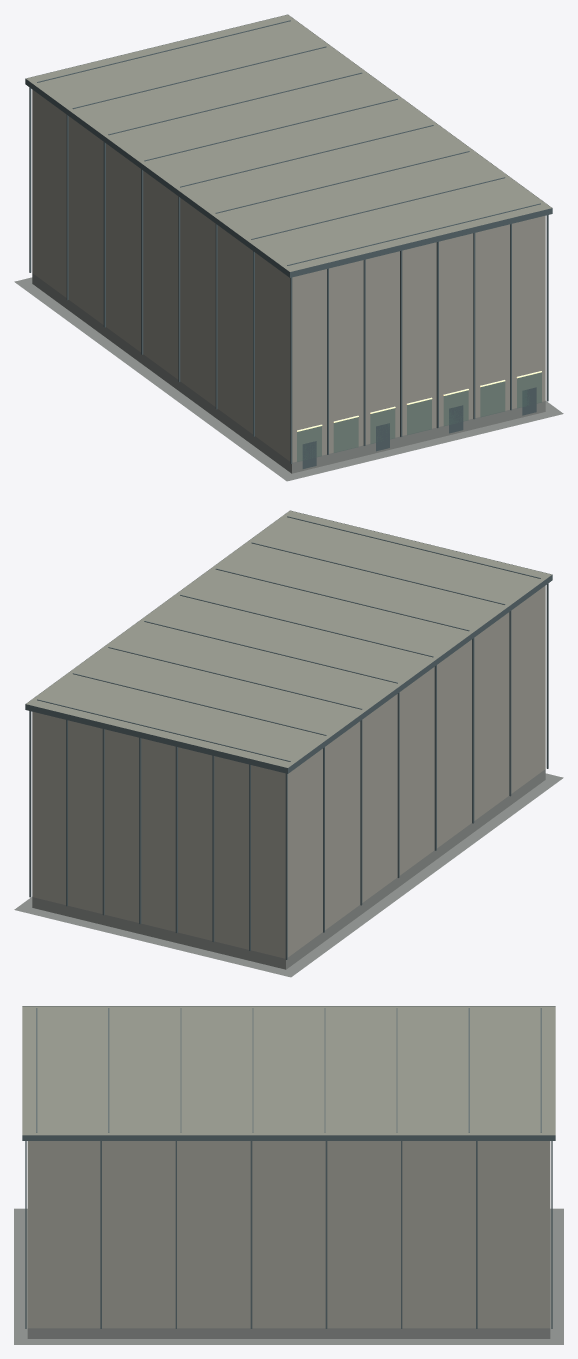
File: shell.glb
3 renders of one model, top to bottom at view 1: azimuth 30°, elevation 25°; view 2: azimuth 150°, elevation 25°; view 3: azimuth 270°, elevation 25°, orthographic.
Visible parts, largest first — view 1: shell_bowl_mass_cladding, shell_roof_canopy, shell_bowl_mass_facade_panels, shell_roof_canopy_fascia, shell_bowl_mass_plinth, shell_field_floor_apron, shell_bowl_mass_suite_glass_lobby, shell_bowl_mass_portal_frames; view 2: shell_bowl_mass_cladding, shell_roof_canopy, shell_bowl_mass_facade_panels, shell_roof_canopy_fascia, shell_bowl_mass_plinth, shell_field_floor_apron; view 3: shell_bowl_mass_cladding, shell_roof_canopy, shell_field_floor_apron, shell_bowl_mass_plinth, shell_roof_canopy_fascia, shell_bowl_mass_facade_panels.
Part boxes in pixels (bbox=[...]): shell_bowl_mass_cladding: bbox=[32, 89, 545, 462]; shell_roof_canopy: bbox=[26, 14, 551, 271]; shell_bowl_mass_facade_panels: bbox=[29, 87, 548, 463]; shell_roof_canopy_fascia: bbox=[25, 14, 552, 277]; shell_bowl_mass_plinth: bbox=[32, 273, 545, 473]; shell_field_floor_apron: bbox=[14, 277, 563, 481]; shell_bowl_mass_suite_glass_lobby: bbox=[297, 372, 541, 461]; shell_bowl_mass_portal_frames: bbox=[302, 387, 536, 468]; shell_bowl_mass_cladding: bbox=[32, 585, 545, 958]; shell_roof_canopy: bbox=[26, 510, 551, 767]; shell_bowl_mass_facade_panels: bbox=[29, 583, 548, 959]; shell_roof_canopy_fascia: bbox=[25, 510, 552, 773]; shell_bowl_mass_plinth: bbox=[32, 769, 545, 969]; shell_field_floor_apron: bbox=[14, 773, 563, 977]; shell_bowl_mass_cladding: bbox=[27, 1141, 550, 1328]; shell_roof_canopy: bbox=[22, 1006, 555, 1135]; shell_field_floor_apron: bbox=[14, 1208, 563, 1344]; shell_bowl_mass_plinth: bbox=[27, 1328, 550, 1338]; shell_roof_canopy_fascia: bbox=[22, 1006, 555, 1140]; shell_bowl_mass_facade_panels: bbox=[25, 1141, 552, 1328].
Size of the model in its own units: 31.64 by 22.39 by 53.98.
